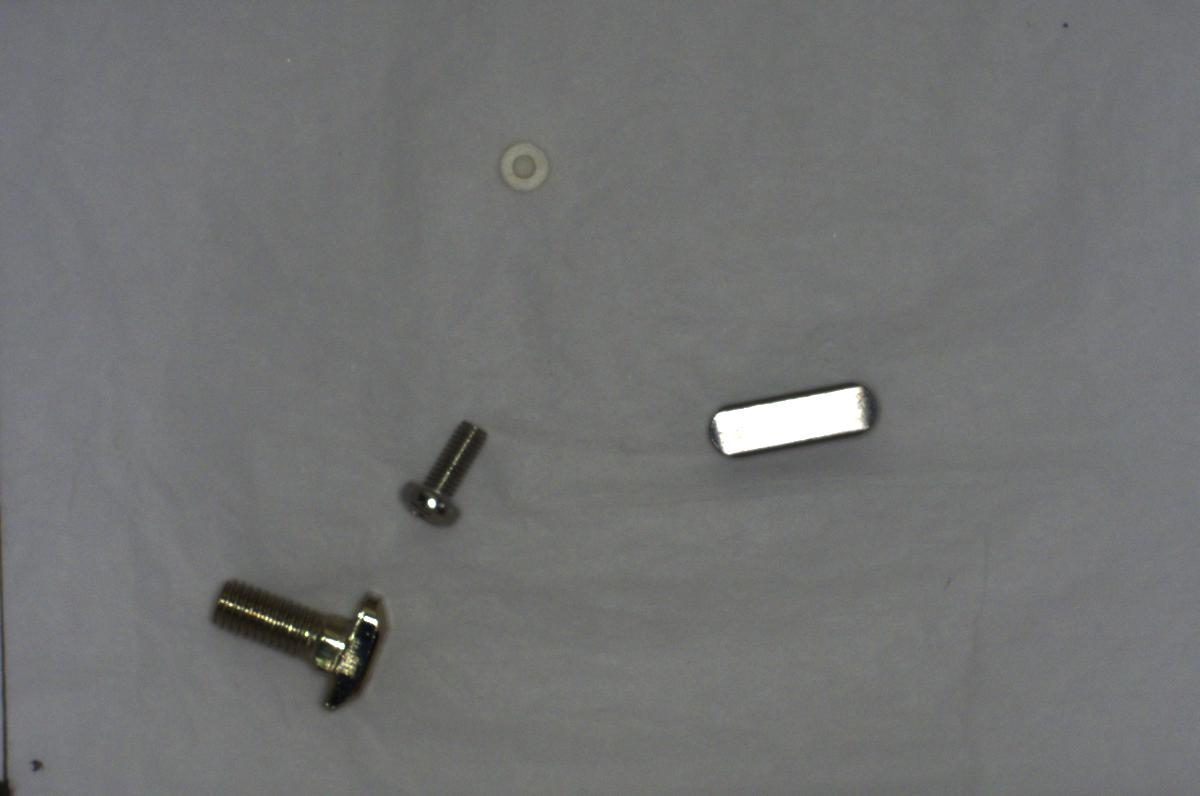Keybar: (706, 387, 884, 469)
Plastic cushion pillar: (492, 132, 560, 196)
Round head screw: (392, 413, 491, 532)
T-shaped screw: (202, 565, 397, 716)
